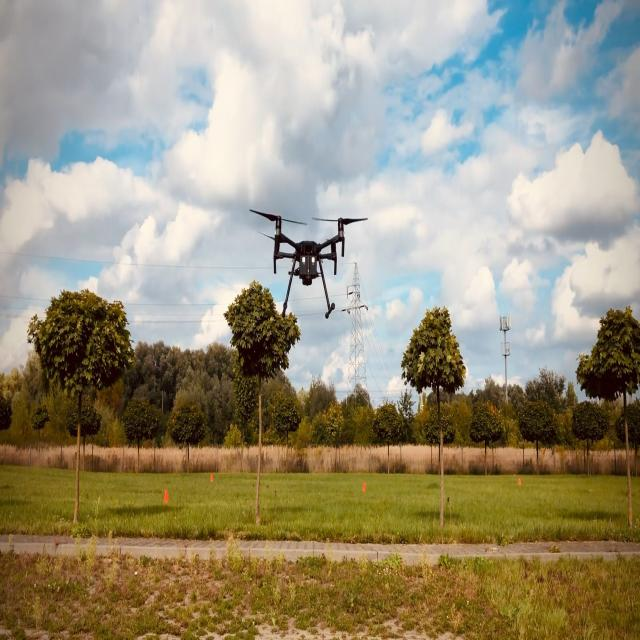drone: (248, 207, 368, 320)
